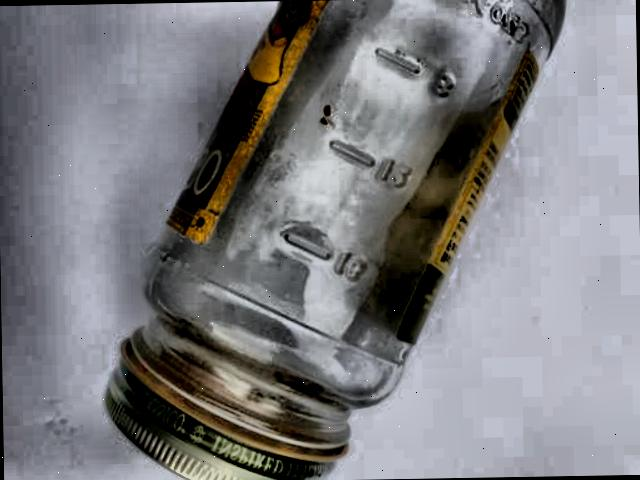Almennt: (75, 0, 587, 480)
